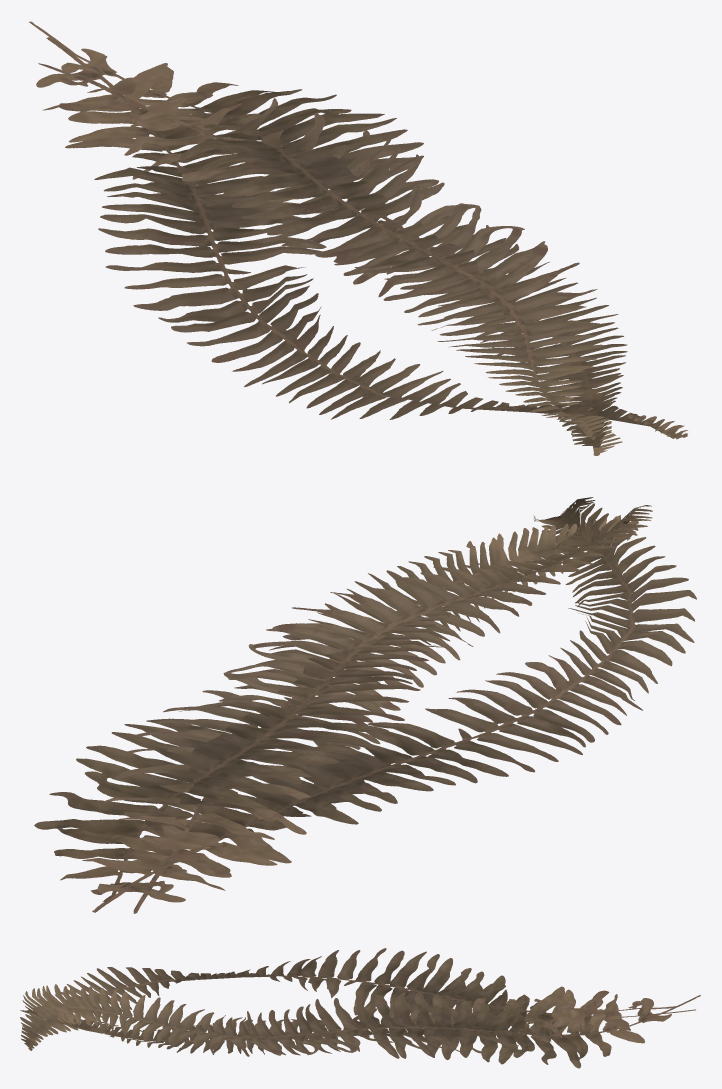
File: fern-litter-01.glb
The picture shows the model from 3 angles, top to bottom: view 1: azimuth 30°, elevation 25°; view 2: azimuth 150°, elevation 25°; view 3: azimuth 270°, elevation 25°; orthographic projection. The views are drawn at different scales.
Visible parts, largest first — view 1: fern_litter_01_rooted, fern_litter_03_rooted, fern_litter_02_rooted; view 2: fern_litter_01_rooted, fern_litter_03_rooted, fern_litter_02_rooted; view 3: fern_litter_03_rooted, fern_litter_01_rooted, fern_litter_02_rooted.
Part boxes in pixels (x1,y1,x2,y2): fern_litter_01_rooted: (36, 37, 687, 439); fern_litter_03_rooted: (29, 21, 627, 447); fern_litter_02_rooted: (38, 63, 622, 455); fern_litter_01_rooted: (82, 497, 696, 912); fern_litter_03_rooted: (34, 515, 638, 901); fern_litter_02_rooted: (104, 505, 652, 913); fern_litter_03_rooted: (20, 992, 700, 1068); fern_litter_01_rooted: (20, 948, 695, 1050); fern_litter_02_rooted: (22, 984, 675, 1056).
Size of the model in its own units: 0.4508 by 0.0615 by 1.06.
1 material, 1 textured.
